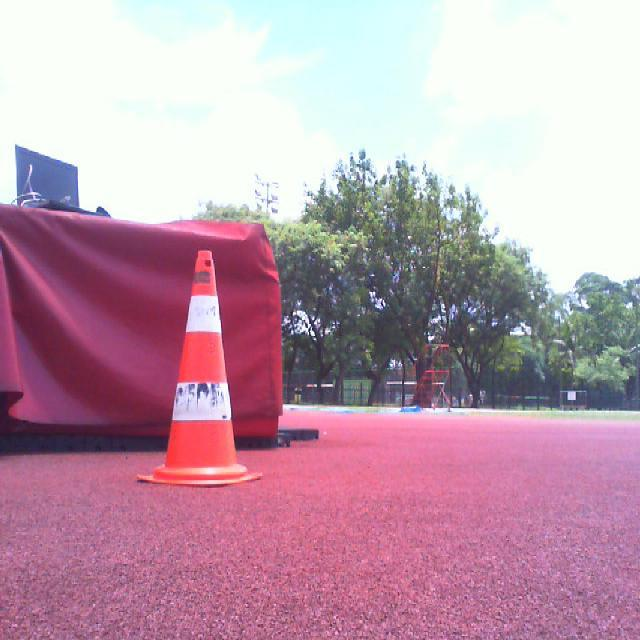Cone: (137, 251, 263, 488)
